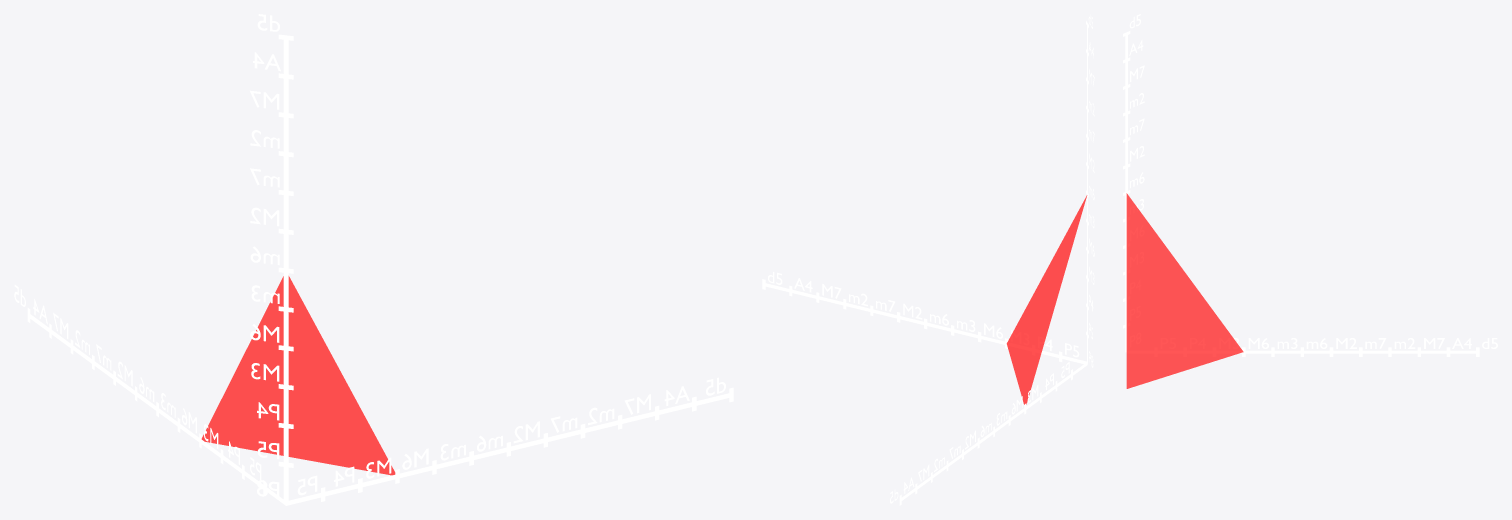
Rendered from FinalBeatAlto.glb.
3 views of the same model, side by side, from view 1: azimuth 30°, elevation 25°; view 2: azimuth 150°, elevation 25°; view 3: azimuth 270°, elevation 25° (orthographic). The views are drawn at different scales.
Parts seen in each view (by area): view 1: intervals, z_axis, x_axis, y_axis; view 2: intervals, x_axis, y_axis, z_axis; view 3: intervals, y_axis, z_axis.
Boxes of the visible parts, <box> form: intervals: <box>201,276,395,475</box>; z_axis: <box>278,34,293,503</box>; x_axis: <box>286,387,733,505</box>; y_axis: <box>27,308,286,505</box>; intervals: <box>1006,195,1087,404</box>; x_axis: <box>762,279,1086,363</box>; y_axis: <box>899,362,1087,505</box>; z_axis: <box>1086,21,1088,363</box>; intervals: <box>1126,193,1243,388</box>; y_axis: <box>1127,347,1479,356</box>; z_axis: <box>1123,31,1130,352</box>.
Size of the model in its own units: 1.06 by 1.06 by 1.07.
